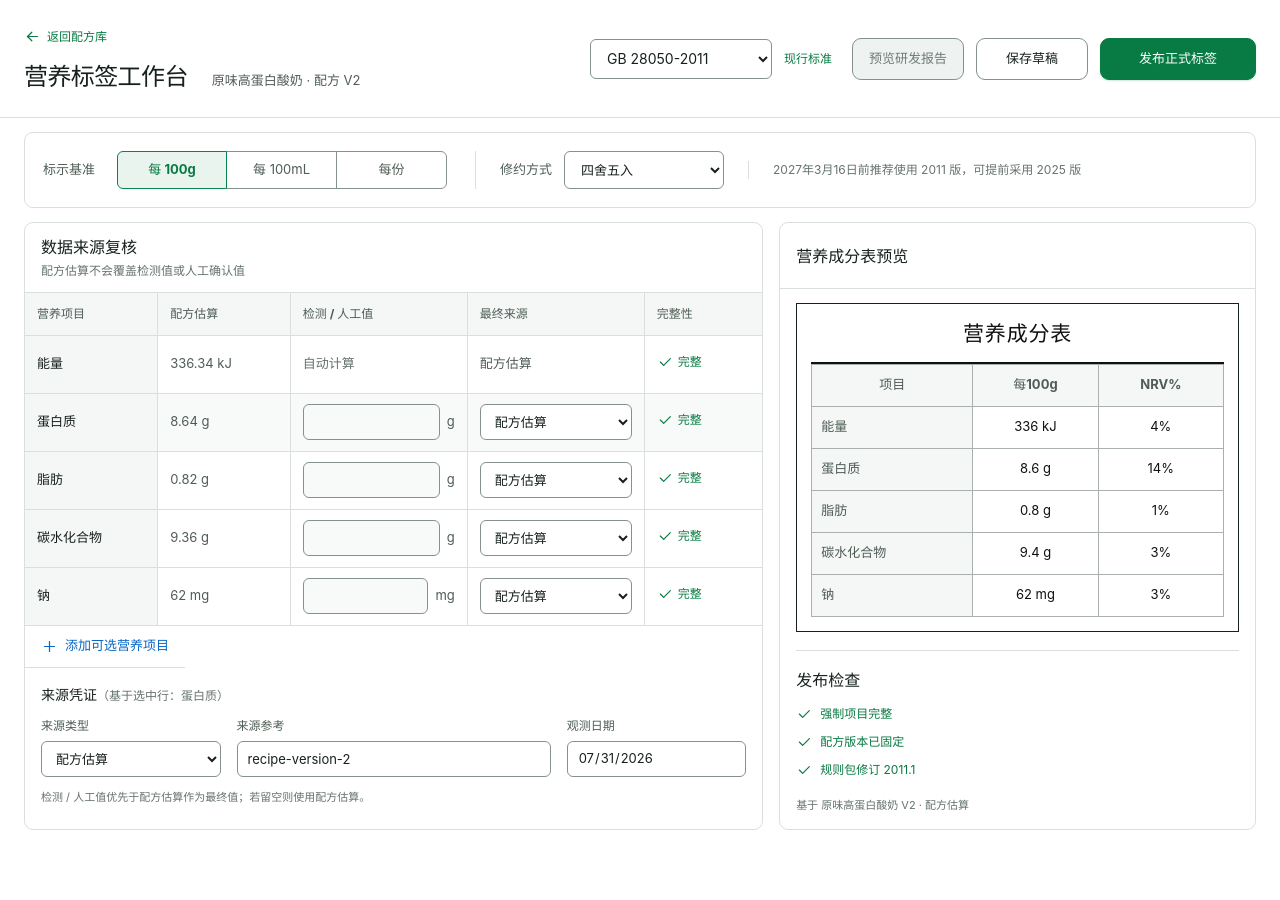
Test case: NutritionLabelWorkspace › switches to the 2025 mandatory rows and shows its required notice
This screenshot has width=1280, height=900.
Expected: the heading "数据来源复核" is shown, [41,237,137,257]
Select "GB 28050-2025" in the dropdown named "营养标签标准" at (681, 58), box [590,38,772,78]
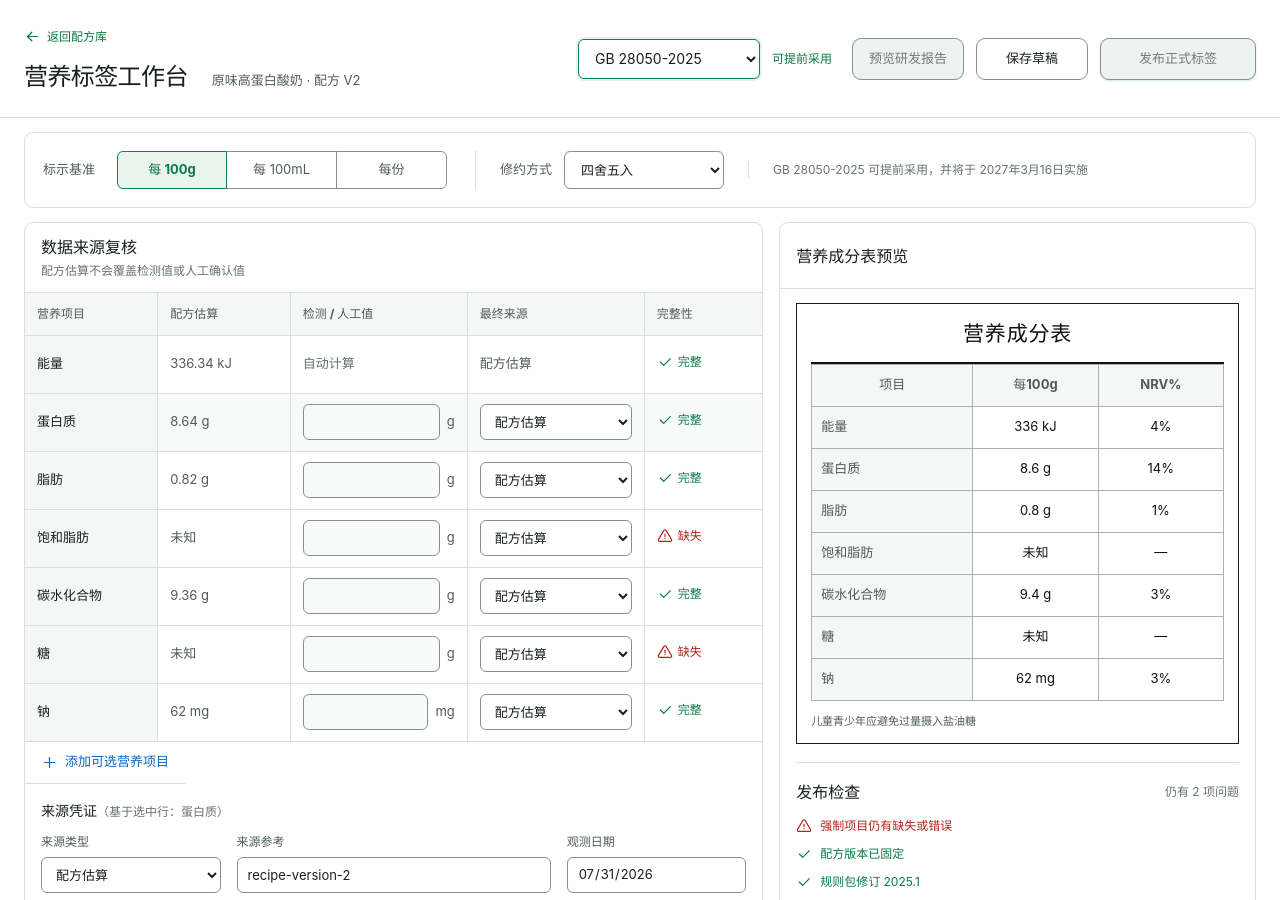
Expected: the column heading "饱和脂肪" below "0.82 g" is shown, [37,529,89,545]
Expected: the column heading "糖" below "9.36 g" is shown, [37,645,50,661]
Expected: the text "儿童青少年应避免过量摄入盐油糖" is shown, [811,714,976,728]
